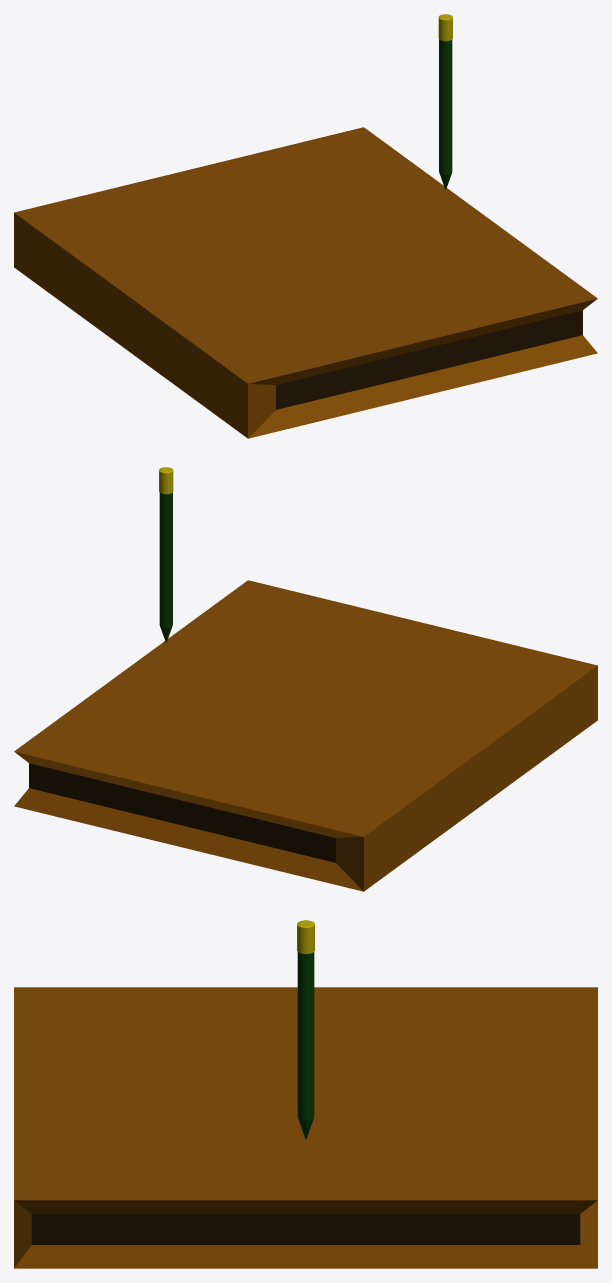
Rendered from book.fbx.
3 renders of one model, top to bottom at view 1: azimuth 30°, elevation 25°; view 2: azimuth 150°, elevation 25°; view 3: azimuth 270°, elevation 25°, orthographic. The views are drawn at different scales.
Parts seen in each view (by area): view 1: Cube.003, Cylinder.002; view 2: Cube.003, Cylinder.002; view 3: Cube.003, Cylinder.002.
Part boxes in pixels (<box>): Cube.003: <box>14,127,597,438</box>; Cylinder.002: <box>438,14,452,189</box>; Cube.003: <box>14,580,597,891</box>; Cylinder.002: <box>159,467,173,642</box>; Cube.003: <box>14,987,597,1268</box>; Cylinder.002: <box>297,920,314,1138</box>.
Bounding box in the file's own units: 35.39 × 25.09 × 41.02.
